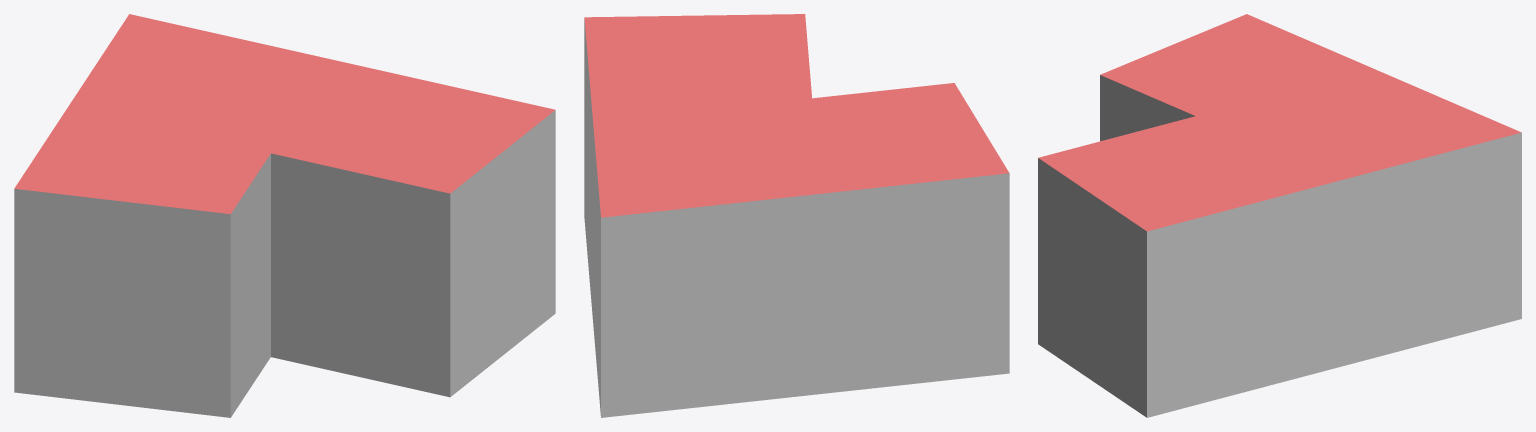
File: ID_a0ebd907-5d10-4651-88ea-2aa4f0ede9f0.gltf
3 renders of one model, left to right at view 1: azimuth 30°, elevation 25°; view 2: azimuth 150°, elevation 25°; view 3: azimuth 270°, elevation 25°, orthographic. The views are drawn at different scales.
Parts seen in each view (by area): view 1: Z_UP; view 2: Z_UP; view 3: Z_UP.
Part boxes in pixels (x1,y1,x2,y2): Z_UP: (14,14,555,417); Z_UP: (584,14,1009,417); Z_UP: (1038,14,1521,417).
Bounding box in the file's own units: 32.53 × 13 × 30.57.
